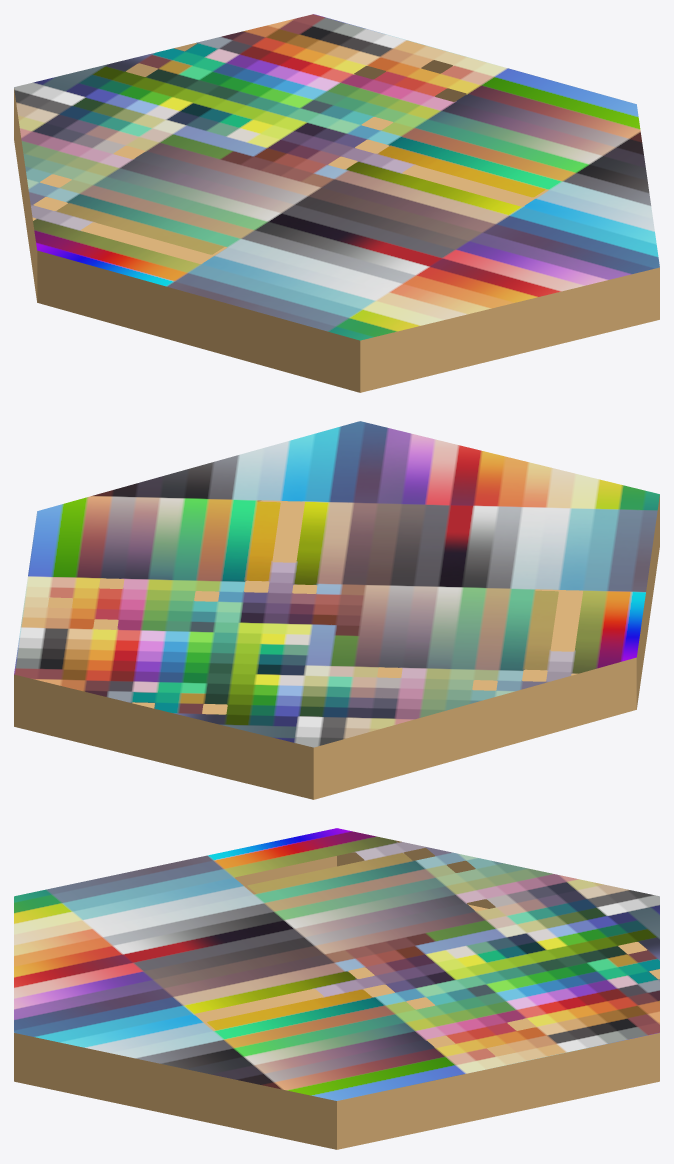
File: StoneFloor.fbx
The picture shows the model from 3 angles, top to bottom: view 1: azimuth 30°, elevation 25°; view 2: azimuth 150°, elevation 25°; view 3: azimuth 270°, elevation 25°; orthographic projection. The views are drawn at different scales.
Parts seen in each view (by area): view 1: StoneFloor; view 2: StoneFloor; view 3: StoneFloor.
Part boxes in pixels (x1,y1,x2,y2): StoneFloor: (14, 14, 659, 392); StoneFloor: (14, 421, 659, 799); StoneFloor: (14, 828, 659, 1149).
Bounding box in the file's own units: 1200 × 100 × 1200.
